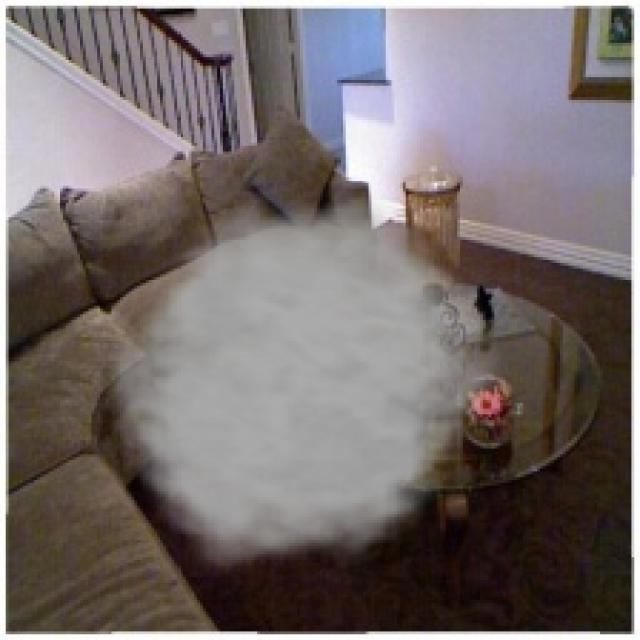smoke: (94, 191, 509, 583)
